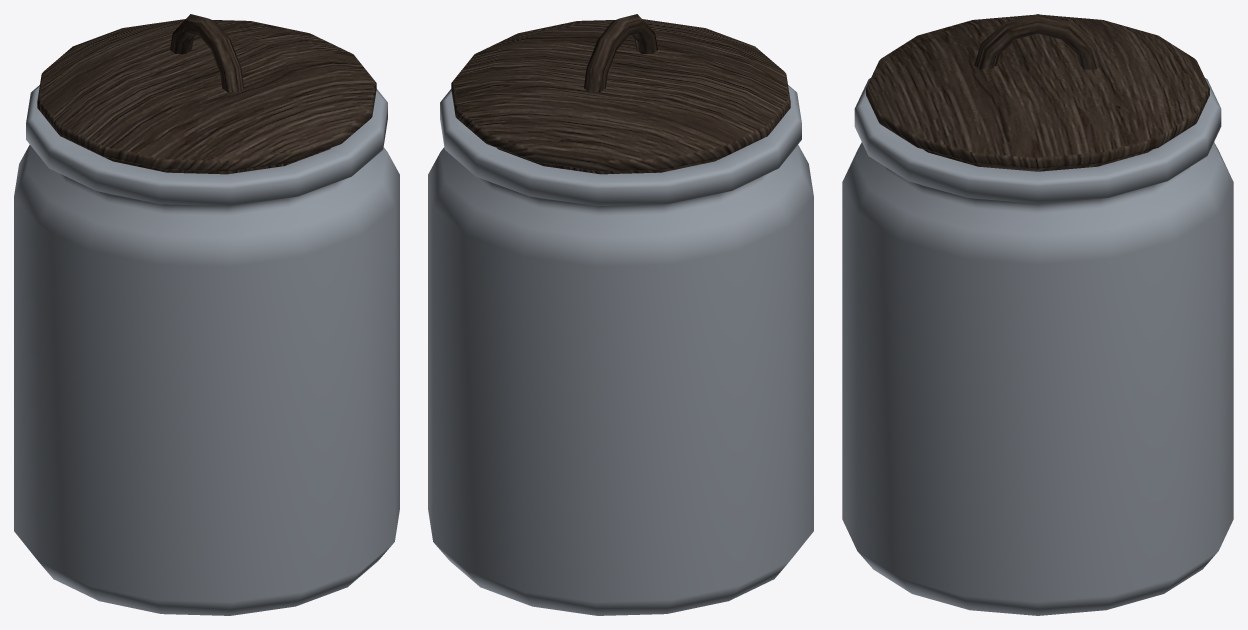
Rendered from EggJar.glb.
The picture shows the model from 3 angles, left to right: view 1: azimuth 30°, elevation 25°; view 2: azimuth 150°, elevation 25°; view 3: azimuth 270°, elevation 25°; orthographic projection.
Visible parts, largest first — view 1: Decor_EggJar_Glass, Decor_EggJar_Lid; view 2: Decor_EggJar_Glass, Decor_EggJar_Lid; view 3: Decor_EggJar_Glass, Decor_EggJar_Lid.
Part boxes in pixels (x1,y1,x2,y2): Decor_EggJar_Glass: (14,85,399,615); Decor_EggJar_Lid: (37,14,376,174); Decor_EggJar_Glass: (428,85,813,615); Decor_EggJar_Lid: (451,14,790,174); Decor_EggJar_Glass: (842,78,1233,615); Decor_EggJar_Lid: (866,14,1209,171).
Bounding box in the file's own units: 0.3247 × 0.4979 × 0.3247.
Materials: 4 (4 with a texture image).
